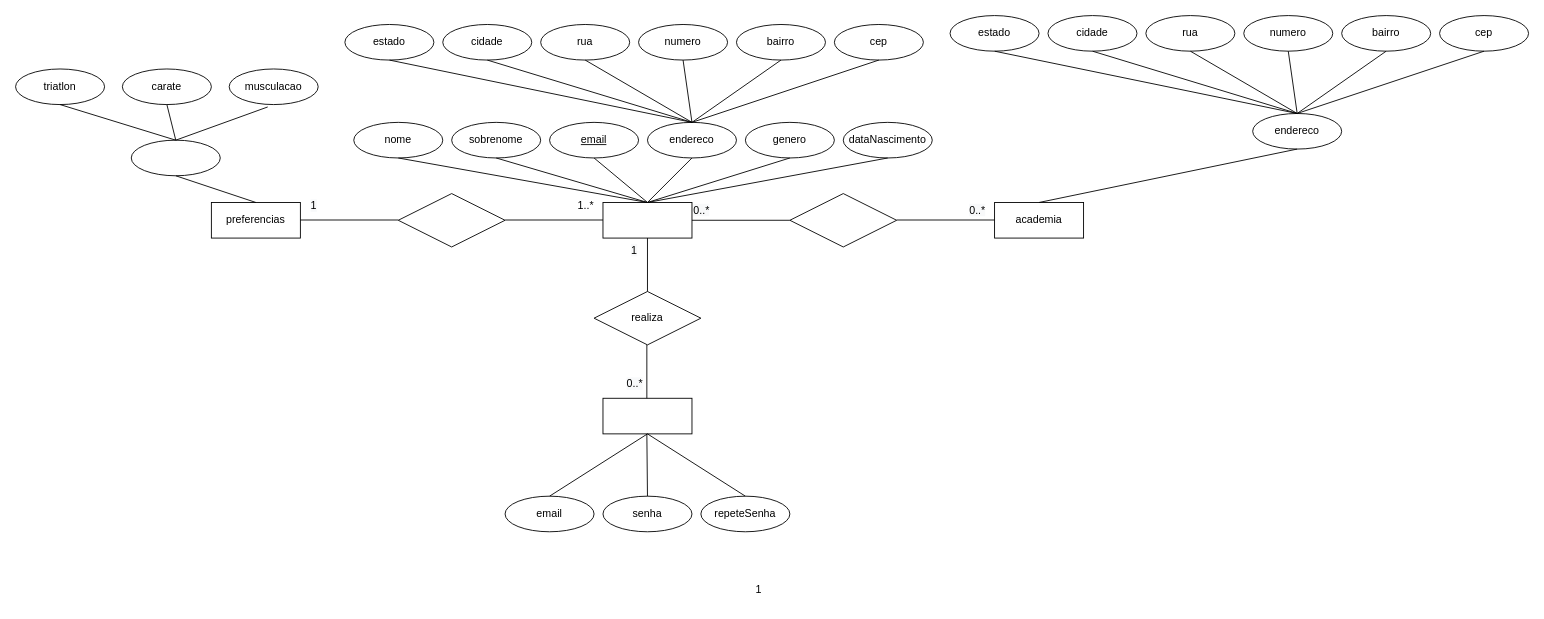
This 1544x619 diagram has some shape labels left out. Here are the shapes that lost their labels. From the top down, the box of each, then its label:
(130, 139, 220, 176): atividades
(397, 193, 505, 247): possui
(602, 202, 692, 238): usuario
(789, 193, 897, 247): treina
(602, 397, 692, 434): login
